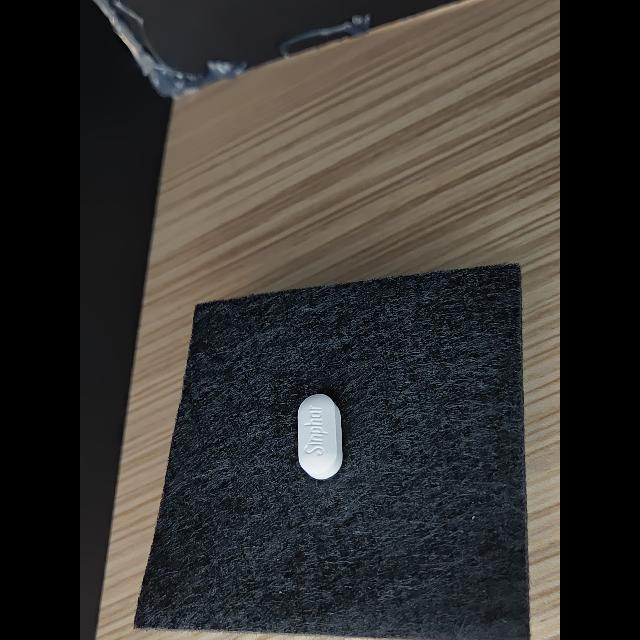Intact Pill: (298, 394, 343, 479)
